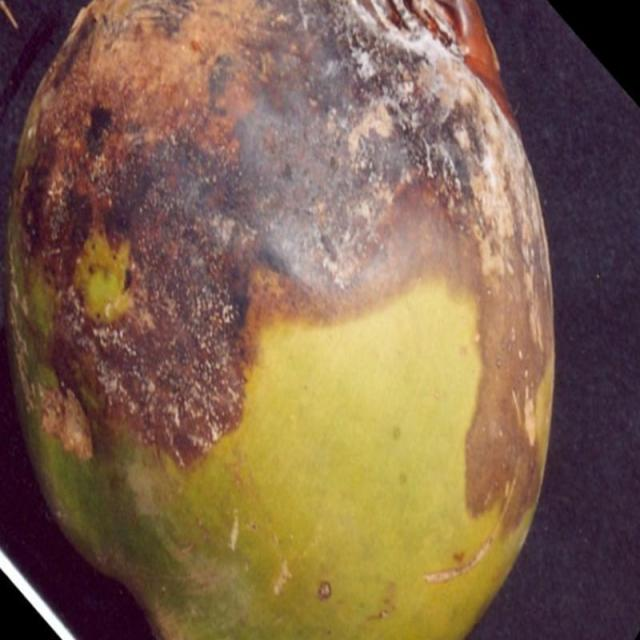damaged: (3, 0, 556, 639)
